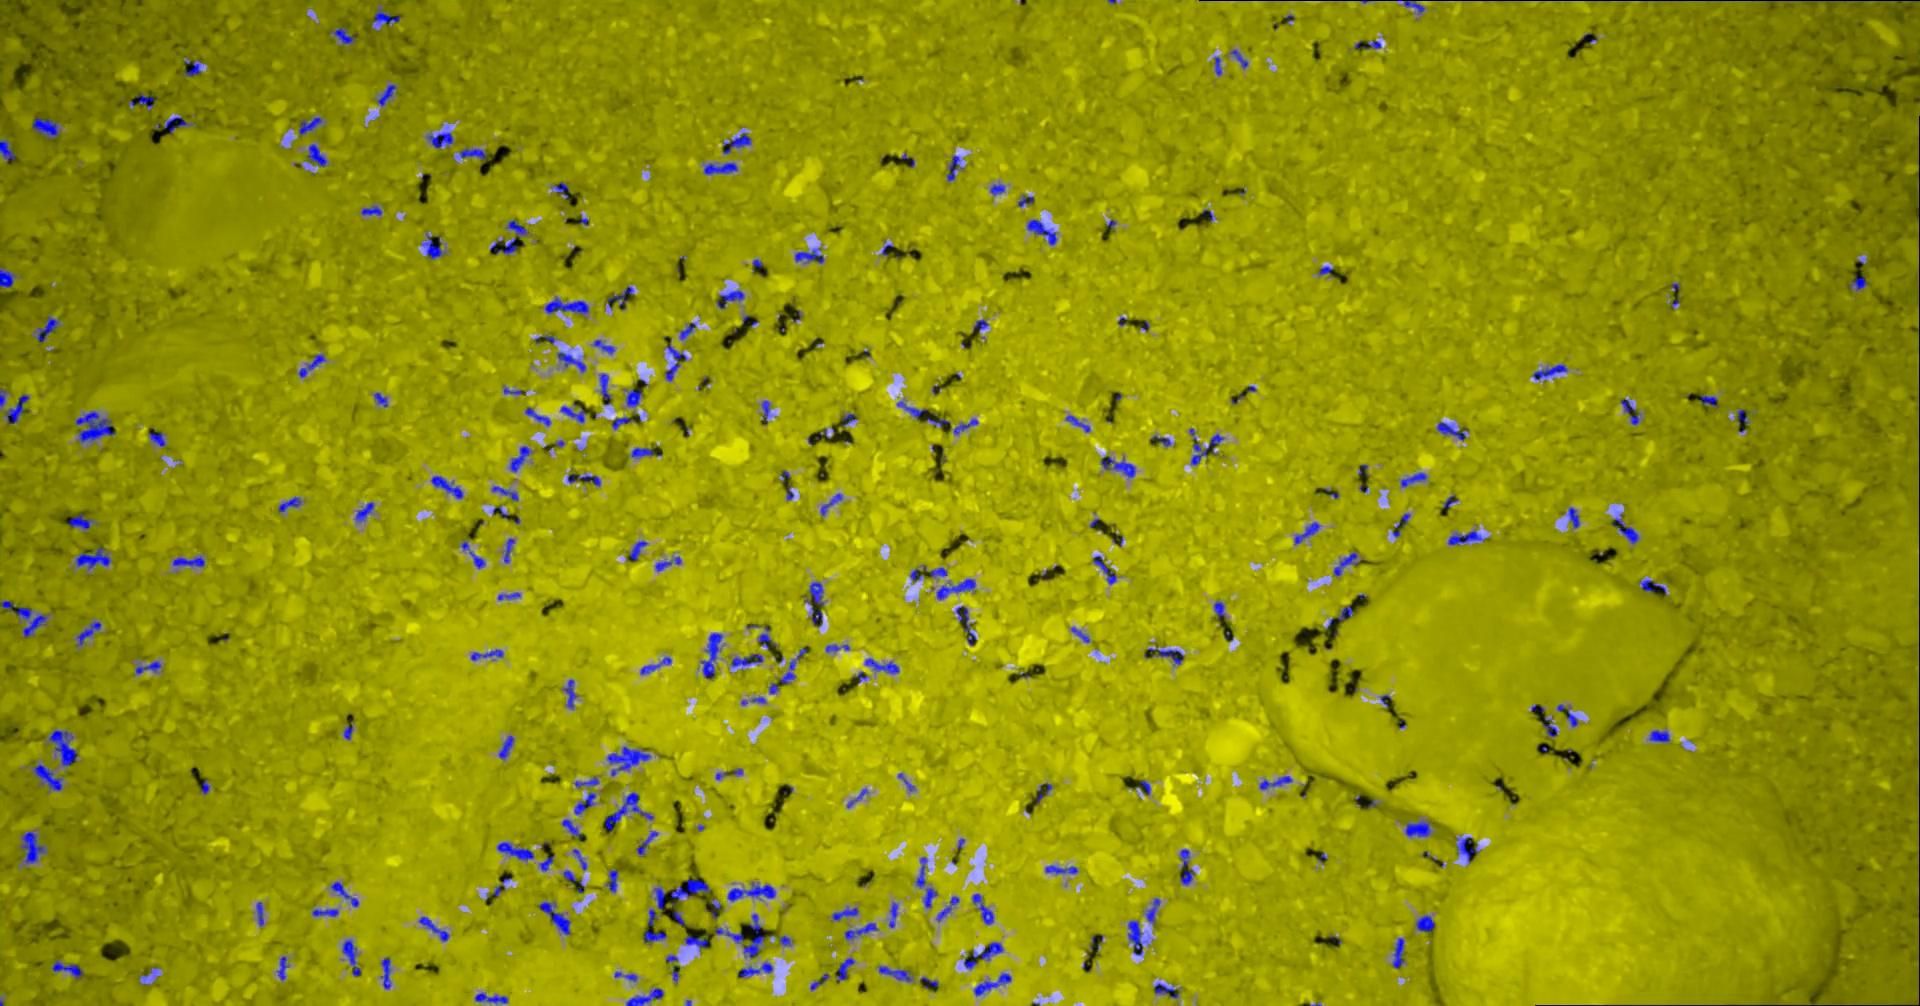ant: (606, 793, 655, 831), (1, 600, 48, 636), (608, 746, 651, 775), (1191, 428, 1225, 464), (77, 412, 117, 442), (670, 878, 711, 906), (965, 941, 1004, 969), (50, 729, 79, 766), (540, 901, 571, 934), (702, 633, 724, 678), (744, 913, 767, 956), (781, 647, 808, 683), (729, 882, 777, 901), (665, 343, 688, 381), (22, 831, 48, 862), (938, 578, 977, 600), (1613, 513, 1641, 542), (808, 580, 825, 626), (975, 973, 1012, 995), (957, 605, 977, 645), (432, 475, 465, 498), (36, 763, 63, 790), (1029, 218, 1058, 244), (420, 916, 450, 941), (1102, 456, 1137, 478), (77, 547, 112, 569), (546, 297, 590, 314), (6, 394, 30, 423), (331, 882, 361, 906), (498, 841, 535, 860), (343, 939, 362, 976), (973, 893, 996, 923), (1129, 920, 1148, 955), (627, 987, 665, 1005), (1095, 555, 1117, 584), (1148, 647, 1185, 664), (300, 354, 328, 377), (1335, 553, 1363, 575), (610, 285, 635, 309), (77, 620, 102, 645), (33, 116, 60, 138), (1458, 836, 1481, 862), (423, 231, 444, 259), (559, 351, 587, 372), (1295, 521, 1321, 544), (643, 655, 673, 674), (510, 445, 532, 471), (724, 132, 752, 152), (1449, 530, 1490, 544), (1437, 420, 1467, 439), (938, 895, 960, 921), (846, 922, 879, 939), (38, 315, 58, 342), (53, 960, 84, 978), (739, 962, 775, 977), (898, 401, 930, 418), (866, 658, 900, 673), (880, 965, 914, 981), (1330, 605, 1354, 626), (637, 829, 659, 854), (1622, 398, 1641, 424), (526, 406, 552, 426), (375, 8, 403, 25), (717, 290, 745, 307), (1534, 365, 1570, 379), (1181, 848, 1195, 884), (822, 493, 844, 514), (165, 116, 194, 132), (796, 246, 825, 263), (130, 91, 156, 109), (428, 131, 455, 149), (491, 236, 518, 254), (1558, 704, 1578, 727), (565, 870, 585, 893), (569, 473, 602, 486), (716, 927, 745, 942), (1261, 775, 1293, 789), (333, 27, 359, 43), (577, 793, 597, 814), (309, 144, 328, 166), (300, 117, 324, 135), (759, 625, 777, 649), (838, 956, 856, 981), (493, 485, 521, 500), (949, 155, 965, 180), (1067, 415, 1092, 432), (731, 653, 764, 666), (476, 992, 509, 1005), (378, 84, 397, 105), (848, 788, 870, 807), (491, 876, 513, 895), (1394, 513, 1412, 536), (657, 556, 683, 572), (563, 405, 587, 422), (955, 418, 979, 434), (705, 163, 739, 174), (599, 373, 612, 404), (1407, 821, 1432, 836), (917, 856, 930, 887), (1147, 898, 1162, 923), (507, 218, 530, 235), (472, 649, 505, 661), (1402, 473, 1429, 486), (1641, 579, 1667, 593), (279, 495, 303, 511), (70, 513, 94, 528), (1156, 982, 1180, 997), (630, 540, 649, 559), (174, 555, 206, 567), (563, 818, 583, 836), (1037, 782, 1054, 804), (1398, 0, 1426, 13), (565, 680, 578, 708), (1, 138, 17, 161), (500, 735, 516, 758), (1394, 937, 1406, 968), (1232, 50, 1250, 69), (150, 427, 168, 446), (357, 502, 375, 521), (833, 907, 860, 920), (1417, 915, 1436, 932), (927, 412, 951, 426), (382, 956, 392, 989), (707, 898, 723, 920), (137, 661, 163, 673), (1850, 273, 1869, 290), (627, 387, 644, 406), (1, 267, 17, 287), (686, 935, 710, 948), (461, 147, 488, 159), (594, 339, 616, 353), (185, 58, 203, 75), (1543, 716, 1558, 735), (924, 887, 938, 907), (1048, 864, 1079, 873), (278, 955, 290, 979), (681, 323, 697, 339), (555, 180, 570, 198), (471, 550, 486, 568), (1073, 626, 1091, 641), (577, 776, 599, 788), (645, 930, 668, 941), (613, 417, 634, 429), (973, 319, 990, 333), (1570, 507, 1581, 528), (632, 447, 655, 457), (505, 539, 516, 561), (1137, 779, 1152, 794), (608, 869, 618, 892), (657, 887, 667, 909), (1356, 39, 1382, 48), (1702, 394, 1719, 406), (1738, 408, 1751, 426), (890, 902, 899, 927), (922, 976, 940, 988), (362, 205, 383, 215), (1650, 730, 1671, 741), (616, 970, 637, 981), (541, 855, 555, 870), (312, 908, 340, 916), (1215, 601, 1227, 619), (375, 392, 389, 406), (990, 183, 1006, 196), (843, 413, 858, 426), (258, 901, 265, 926), (763, 400, 771, 424), (827, 644, 851, 652), (931, 567, 949, 577), (499, 592, 522, 600), (1018, 196, 1035, 206), (649, 908, 658, 925), (1217, 56, 1223, 75)
